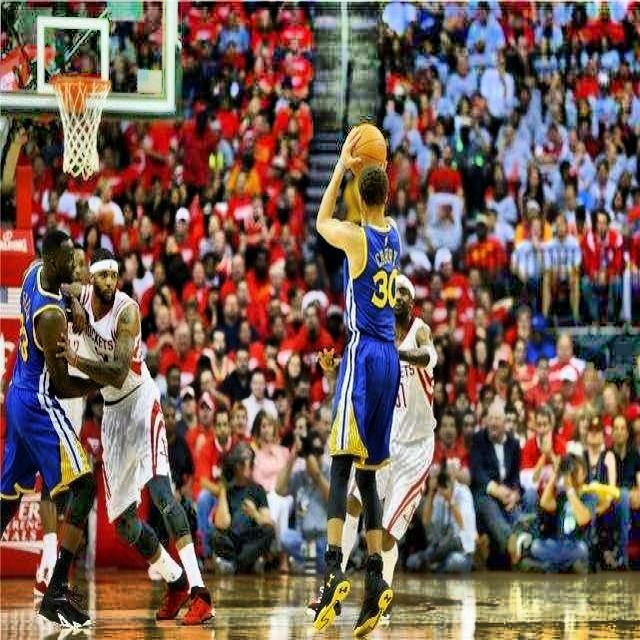rim: (54, 77, 113, 176)
